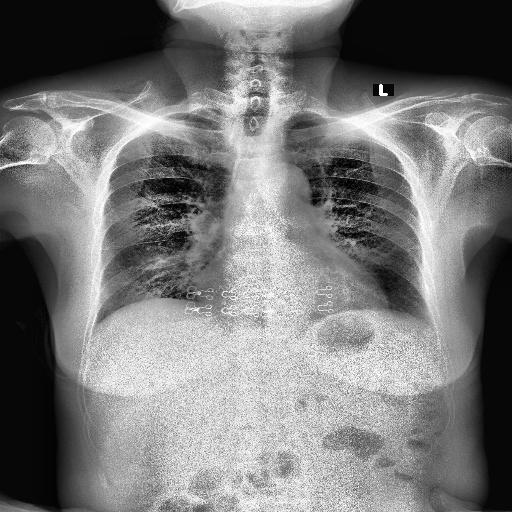0- Aortic enlargement: (260, 162, 314, 216), (252, 162, 308, 208), (259, 162, 310, 203)
3- Cardiomegaly: (190, 272, 390, 334), (193, 266, 390, 310)
